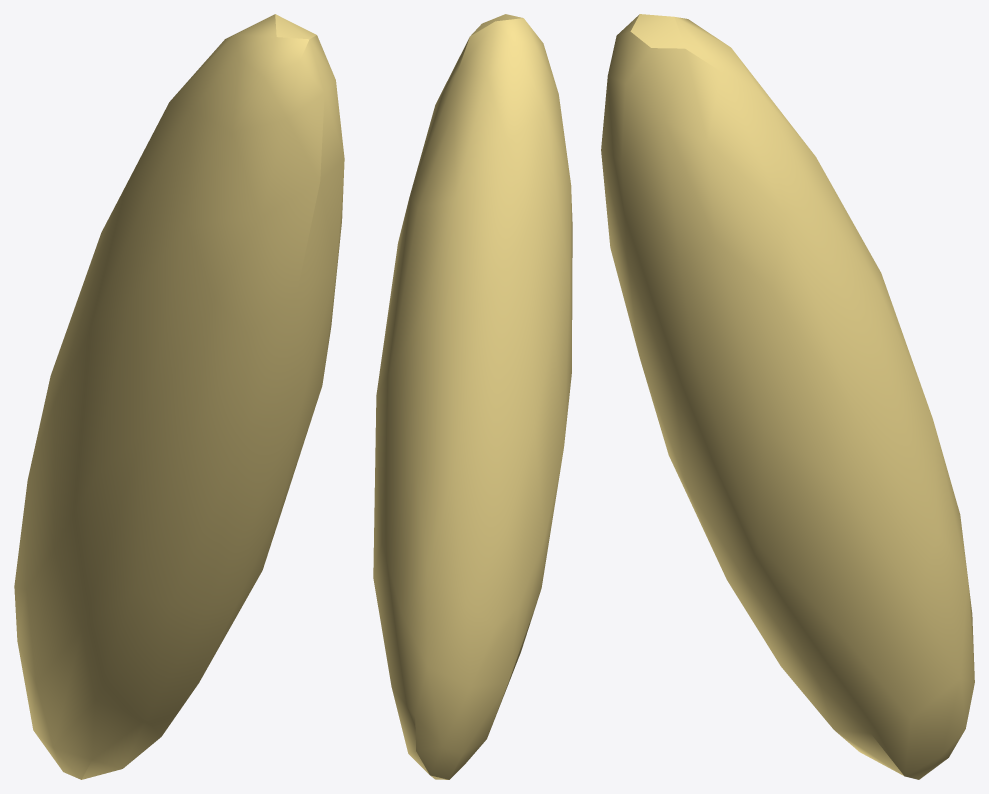
Rendered from fma73490_mm3591.glb.
The picture shows the model from 3 angles, left to right: view 1: azimuth 30°, elevation 25°; view 2: azimuth 150°, elevation 25°; view 3: azimuth 270°, elevation 25°; orthographic projection. The views are drawn at different scales.
Visible parts, largest first — view 1: FMA73490_MM3591; view 2: FMA73490_MM3591; view 3: FMA73490_MM3591.
Part boxes in pixels (x1=…): FMA73490_MM3591: x1=14, y1=14, x2=344, y2=779; FMA73490_MM3591: x1=373, y1=14, x2=572, y2=779; FMA73490_MM3591: x1=601, y1=14, x2=974, y2=779.
Bounding box in the file's own units: 0.00212 × 0.00795 × 0.00342.
